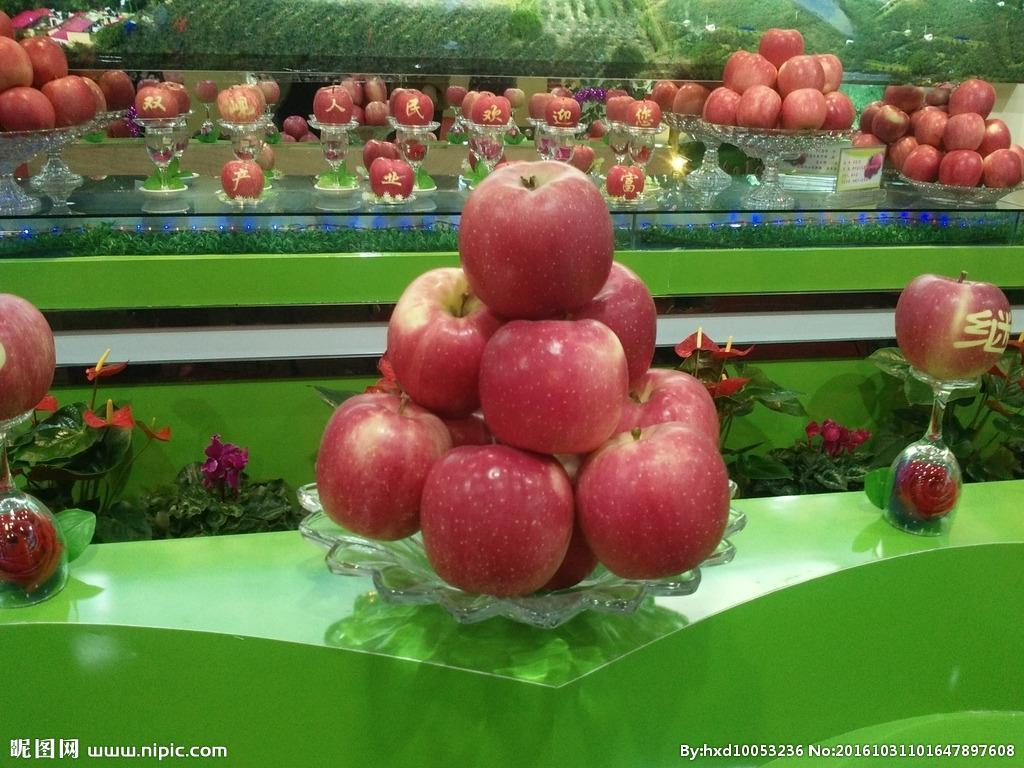apple: (310, 160, 739, 605), (456, 148, 615, 320), (312, 387, 446, 544), (857, 74, 1024, 193), (893, 269, 1011, 385), (0, 291, 54, 431), (132, 79, 191, 119), (387, 87, 434, 126), (461, 90, 511, 125)
